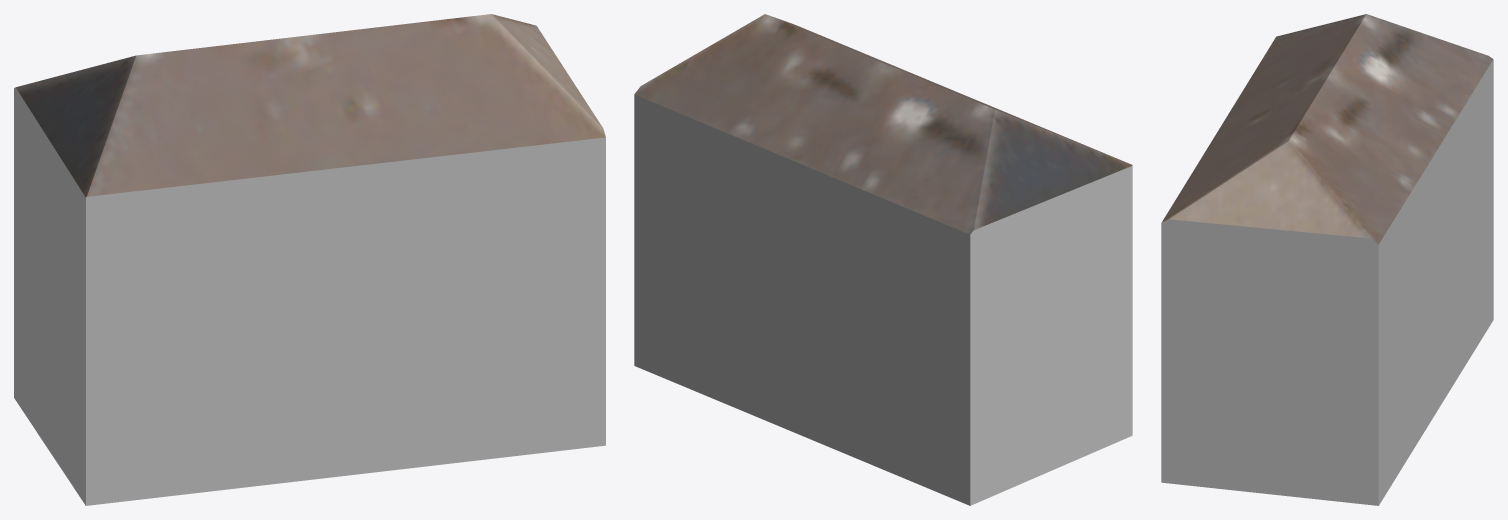
Rendered from DEBW_0010007TxhK.gltf.
3 renders of one model, left to right at view 1: azimuth 30°, elevation 25°; view 2: azimuth 150°, elevation 25°; view 3: azimuth 270°, elevation 25°, orthographic. The views are drawn at different scales.
Parts seen in each view (by area): view 1: Z_UP; view 2: Z_UP; view 3: Z_UP.
Boxes of the visible parts, bbox=[...] form: Z_UP: bbox=[14, 14, 605, 505]; Z_UP: bbox=[634, 14, 1132, 505]; Z_UP: bbox=[1161, 14, 1493, 505].
Size of the model in its own units: 22.35 by 16.22 by 14.99.
Materials: 2 (1 with a texture image).
